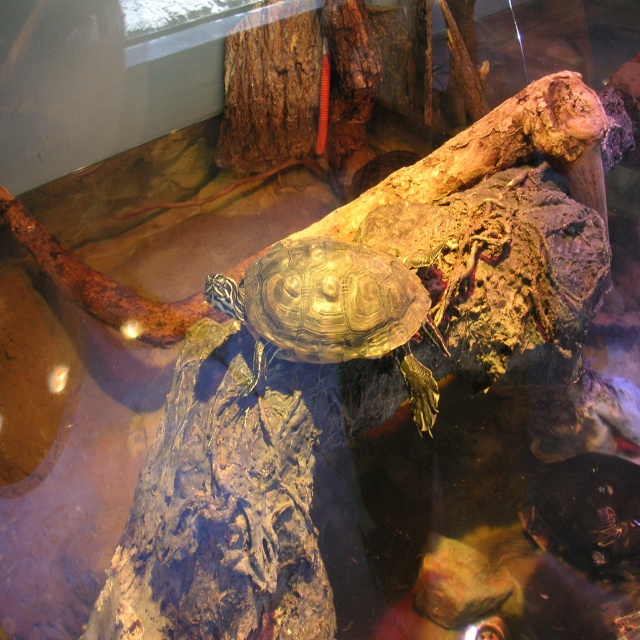Sea turtle: (200, 236, 453, 439)
